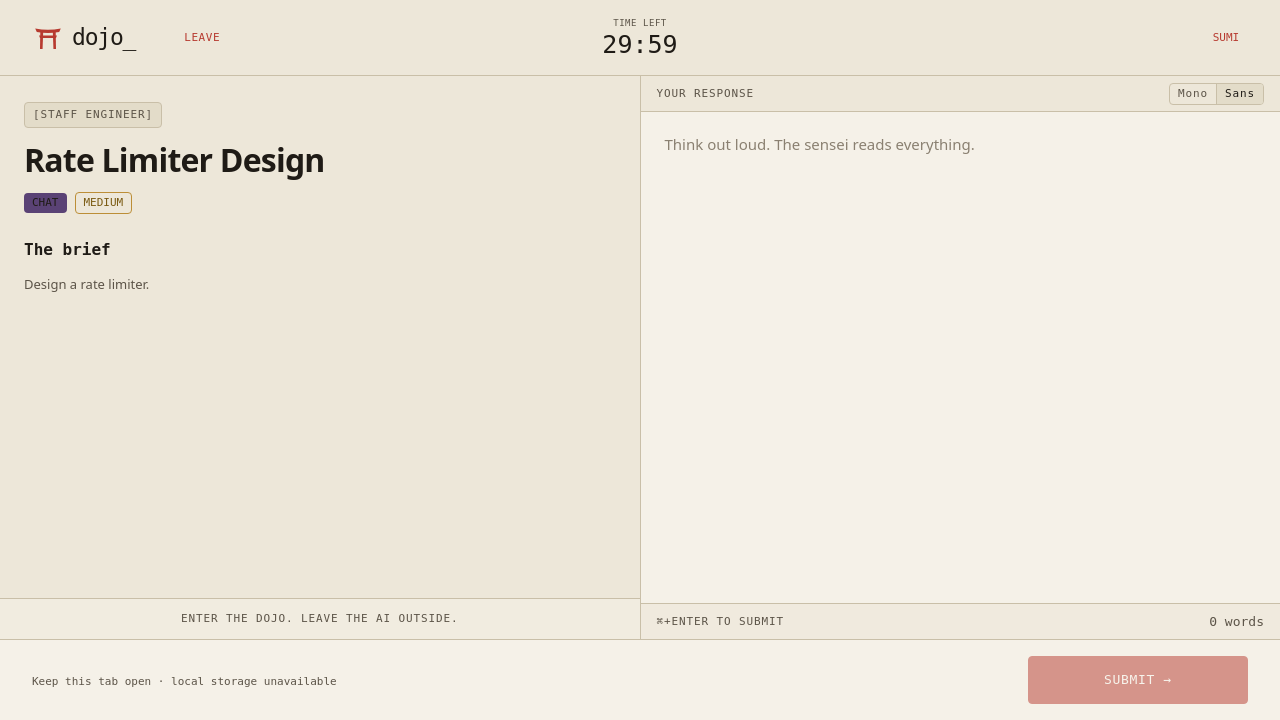
KataActivePage › warns that the draft is not kept when this browser cannot store it
Check: the text "Keep this tab open · local storage unavailable" is shown, box top-left (32, 673), bottom-right (337, 691)
Click the button "Leave" at (202, 38), box top-left (159, 16), bottom-right (245, 60)
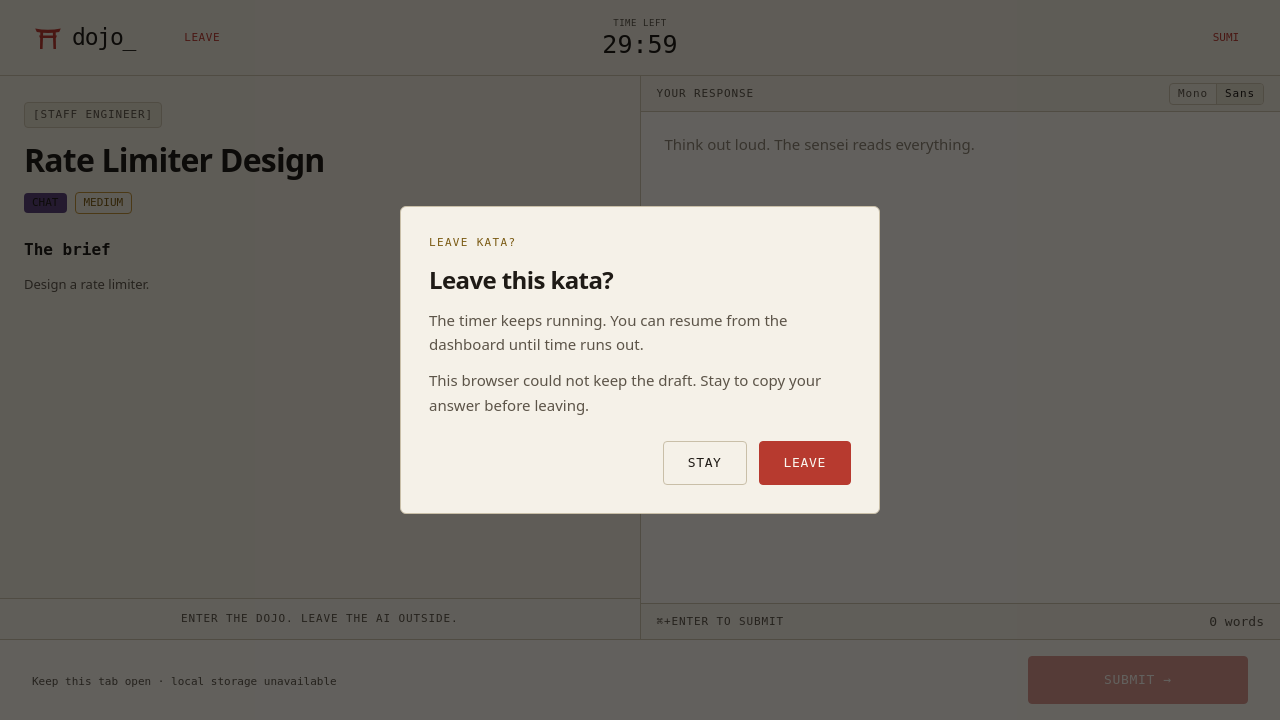
Check: the text "could not keep the draft" is shown, box top-left (429, 370), bottom-right (821, 415)
